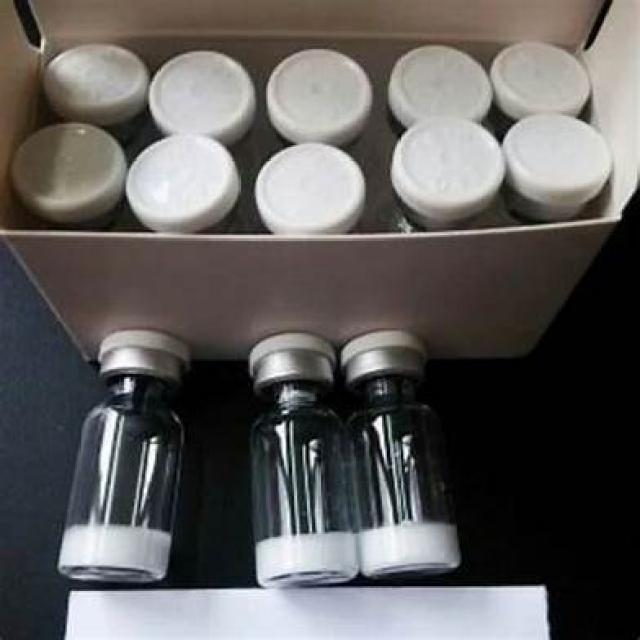vial: (47, 47, 168, 126), (265, 52, 380, 135), (125, 137, 233, 220), (394, 130, 511, 204), (502, 115, 608, 193), (394, 50, 502, 125), (16, 132, 122, 208), (152, 52, 250, 128), (491, 44, 594, 115), (260, 143, 352, 213), (247, 333, 338, 378), (102, 335, 187, 376), (351, 337, 429, 371)
